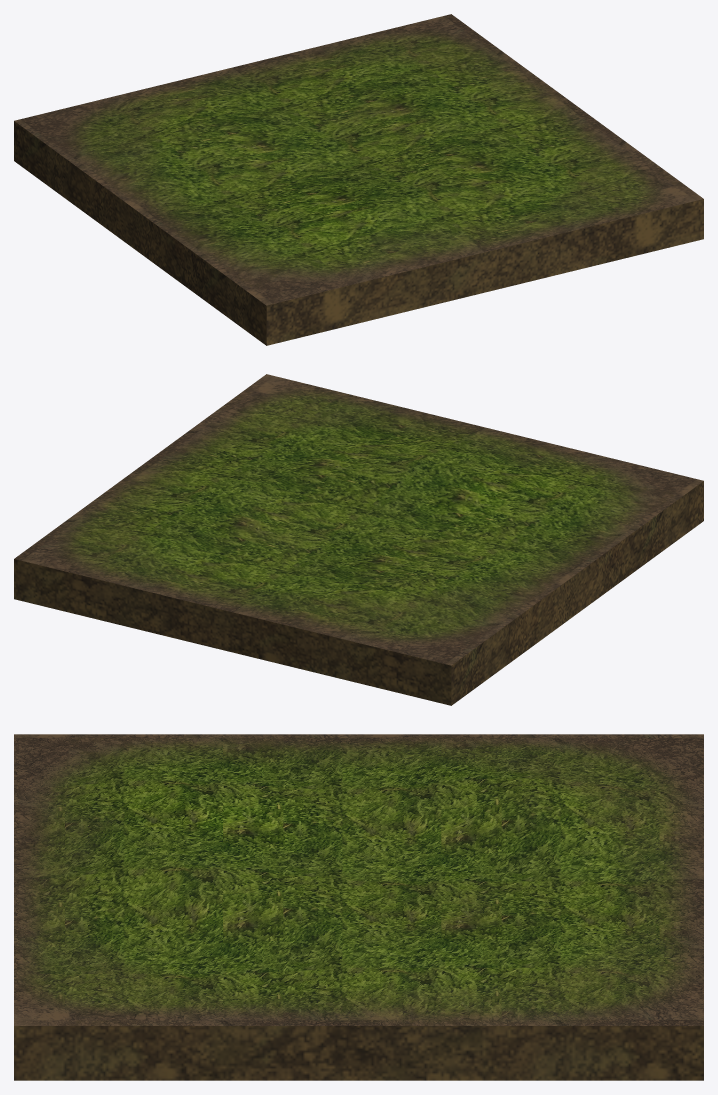
Rendered from GrassFloor2.glb.
3 renders of one model, top to bottom at view 1: azimuth 30°, elevation 25°; view 2: azimuth 150°, elevation 25°; view 3: azimuth 270°, elevation 25°, orthographic. The views are drawn at different scales.
Visible parts, largest first — view 1: Cube; view 2: Cube; view 3: Cube.
Part boxes in pixels (x1=…): Cube: x1=14, y1=14, x2=703, y2=345; Cube: x1=14, y1=374, x2=703, y2=705; Cube: x1=14, y1=734, x2=703, y2=1080.
Size of the model in its own units: 2 by 0.231 by 2.
Materials: 1 (1 with a texture image).
